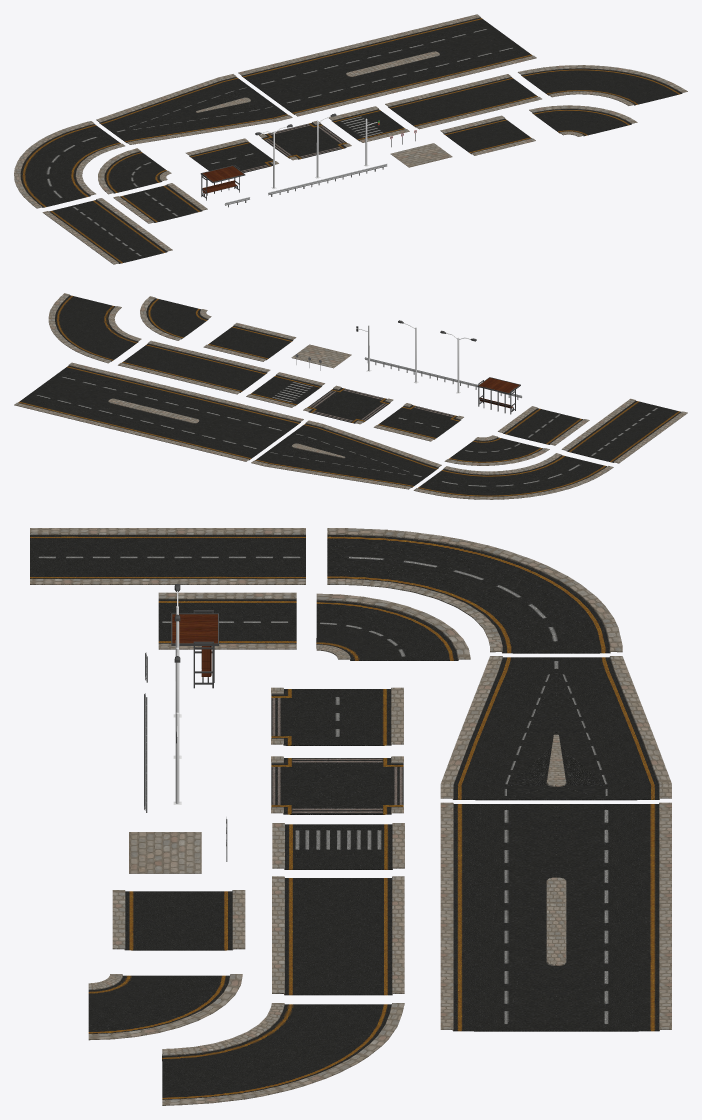
File: modular_city_road_pack__game_ready.glb
3 renders of one model, top to bottom at view 1: azimuth 30°, elevation 25°; view 2: azimuth 150°, elevation 25°; view 3: azimuth 270°, elevation 25°, orthographic. The views are drawn at different scales.
Parts seen in each view (by area): view 1: 4in 2.007_6, 4in 2.006_5, 4in 2.001_0, 4in 2.009_9, 4in 2.008_8, 4in 2.002_1, 4in 2.010_10, 4in 2.012_17, 4in 2.013_22, 4in 2.011_11, 4in 2.004_3, 4in 2.003_2 (+5 smaller); view 2: 4in 2.007_6, 4in 2.006_5, 4in 2.001_0, 4in 2.008_8, 4in 2.002_1, 4in 2.009_9, 4in 2.012_17, 4in 2.013_22, 4in 2.010_10, 4in 2.011_11, 4in 2.004_3, 4in 2.003_2 (+5 smaller); view 3: 4in 2.007_6, 4in 2.006_5, 4in 2.001_0, 4in 2.002_1, 4in 2.008_8, 4in 2.009_9, 4in 2.011_11, 4in 2.012_17, 4in 2.010_10, 4in 2.003_2, 4in 2.004_3, 4in 2.013_22 (+4 smaller).
Part boxes in pixels (x1,y1,x2,y2): 4in 2.007_6: (238,14,536,116); 4in 2.006_5: (96,74,292,144); 4in 2.001_0: (14,121,124,208); 4in 2.009_9: (518,65,687,105); 4in 2.008_8: (385,74,541,129); 4in 2.002_1: (42,198,172,264); 4in 2.010_10: (529,105,637,136); 4in 2.012_17: (440,115,535,155); 4in 2.013_22: (113,183,207,223); 4in 2.011_11: (98,148,171,194); 4in 2.004_3: (258,120,351,160); 4in 2.003_2: (186,138,278,172); 4in 2.007_6: (14,362,303,461); 4in 2.006_5: (251,420,441,489); 4in 2.001_0: (413,453,613,499); 4in 2.008_8: (118,340,270,394); 4in 2.002_1: (561,398,687,463); 4in 2.009_9: (48,293,141,363); 4in 2.012_17: (203,323,296,361); 4in 2.013_22: (498,406,589,445); 4in 2.010_10: (140,296,211,340); 4in 2.011_11: (444,435,549,465); 4in 2.004_3: (303,385,393,424); 4in 2.003_2: (373,403,463,441); 4in 2.007_6: (440,802,671,1031); 4in 2.006_5: (440,656,671,800); 4in 2.001_0: (327,528,622,653); 4in 2.002_1: (30,528,305,584); 4in 2.008_8: (272,876,404,995); 4in 2.009_9: (162,1003,404,1105); 4in 2.011_11: (316,593,470,660); 4in 2.012_17: (112,890,245,950); 4in 2.010_10: (88,974,242,1040); 4in 2.003_2: (271,687,403,745); 4in 2.004_3: (271,756,403,814); 4in 2.013_22: (158,592,296,649).
Bounding box in the file's own units: 27.79 × 2.65 × 13.08.
Materials: 9 (8 with a texture image).
